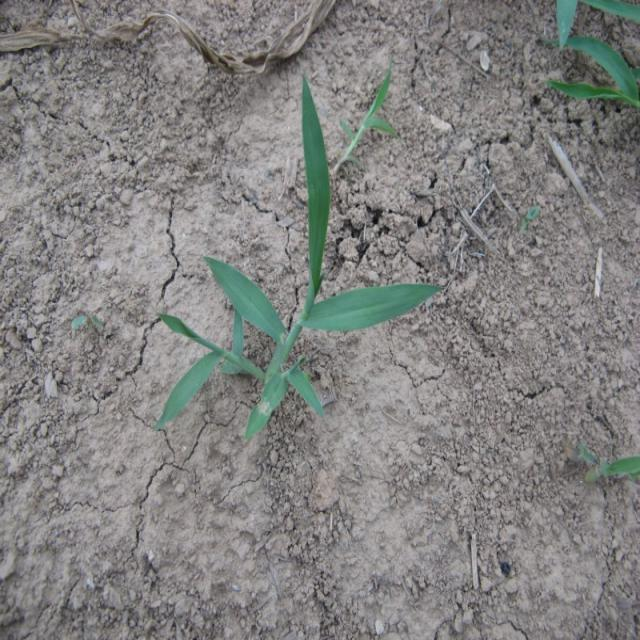bg: (156, 64, 438, 433)
